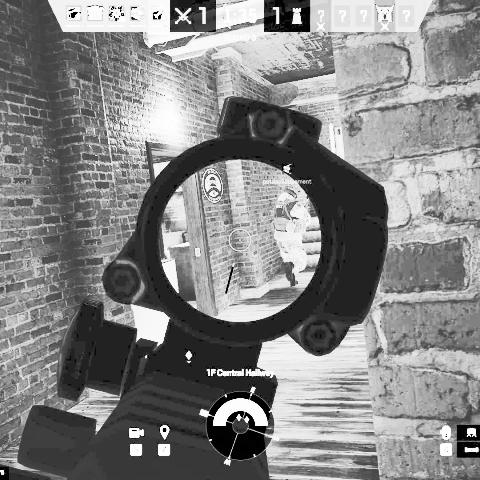Character: (271, 182, 313, 288)
Friend_label: (262, 163, 313, 185)
Head: (284, 183, 300, 199)
